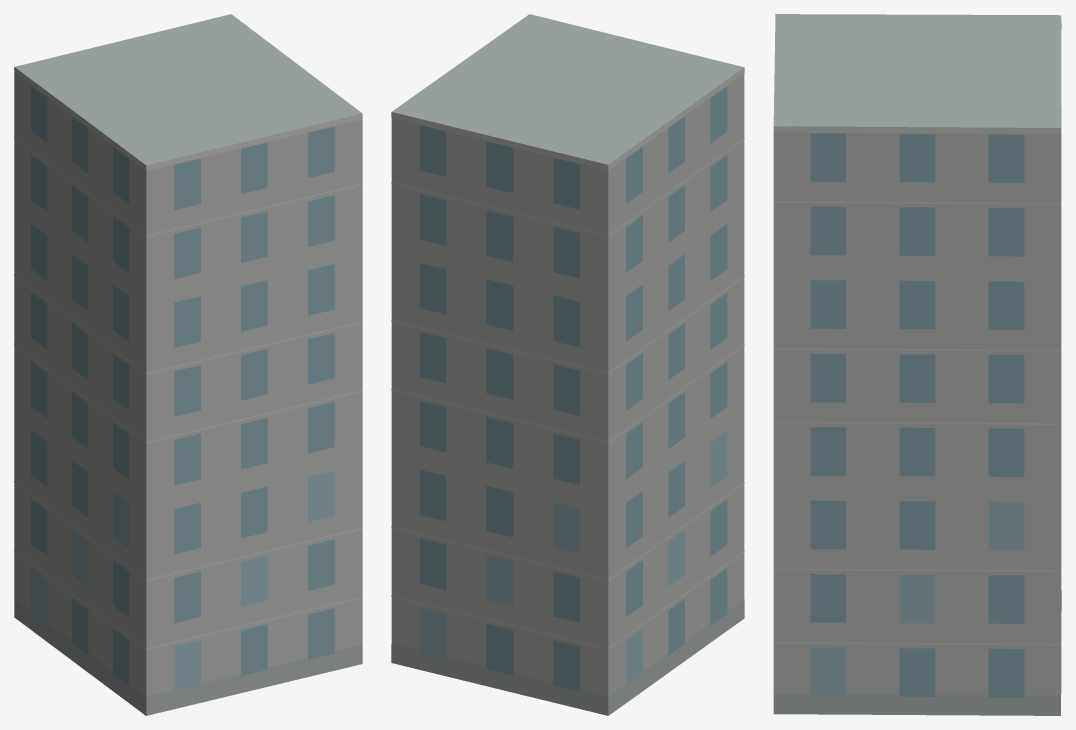
File: survey-upis-32577405.glb
3 views of the same model, side by side, from view 1: azimuth 30°, elevation 25°; view 2: azimuth 150°, elevation 25°; view 3: azimuth 270°, elevation 25° (orthographic). The views are drawn at different scales.
Parts seen in each view (by area): view 1: survey-upis-32577405.tmp; view 2: survey-upis-32577405.tmp; view 3: survey-upis-32577405.tmp.
Part boxes in pixels (<box>): survey-upis-32577405.tmp: <box>14,14,362,715</box>; survey-upis-32577405.tmp: <box>391,14,744,715</box>; survey-upis-32577405.tmp: <box>773,14,1061,715</box>.
Size of the model in its own units: 9.51 by 22.8 by 10.14.
